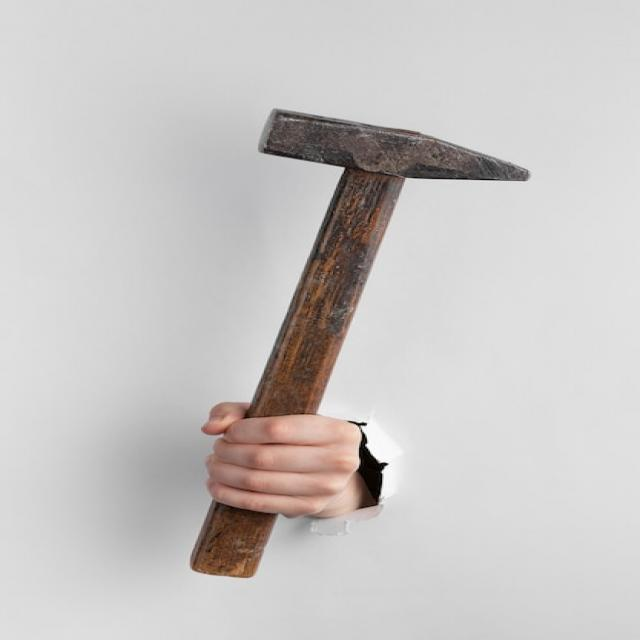hammer: (178, 105, 537, 588)
